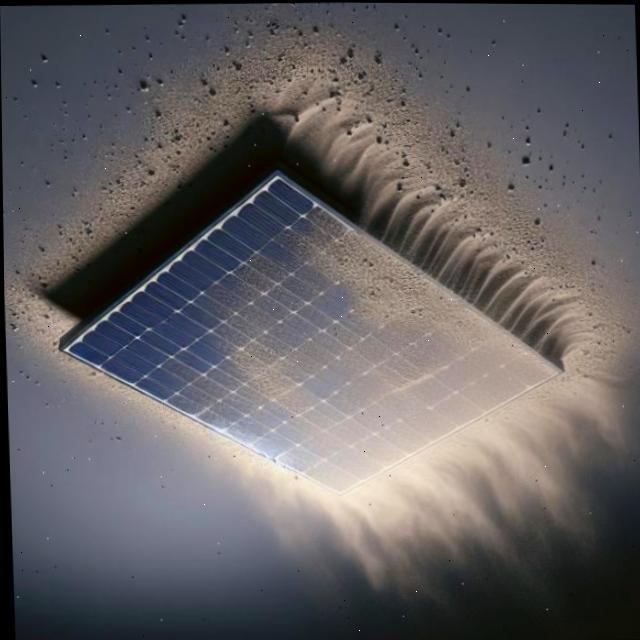Anomaly Solar Panel: (63, 134, 558, 592)
Surface Contaminant: (140, 179, 559, 575)
